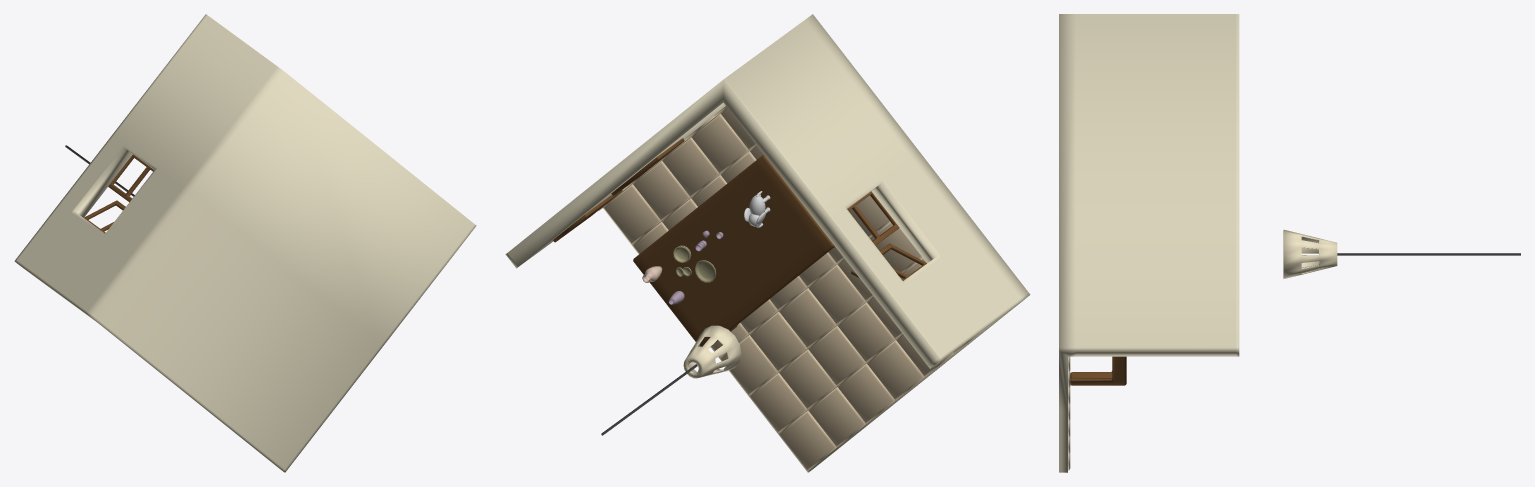
The model's file is elephant.fbx.
3 views of the same model, side by side, from view 1: azimuth 30°, elevation 25°; view 2: azimuth 150°, elevation 25°; view 3: azimuth 270°, elevation 25° (orthographic). The views are drawn at different scales.
Parts seen in each view (by area): view 1: wall, window; view 2: wall, floor, table, lamp_shade, window, plates; view 3: wall, lamp_shade, table, lamp_cable.
Part boxes in pixels (bbox=[...]): wall: bbox=[14, 14, 476, 472]; window: bbox=[84, 154, 153, 233]; wall: bbox=[505, 14, 1030, 472]; floor: bbox=[598, 106, 982, 470]; table: bbox=[633, 154, 860, 346]; lamp_shade: bbox=[683, 325, 741, 378]; window: bbox=[847, 191, 926, 280]; plates: bbox=[673, 245, 716, 282]; wall: bbox=[1059, 14, 1239, 472]; lamp_shade: bbox=[1283, 229, 1337, 278]; table: bbox=[1070, 356, 1126, 385]; lamp_cable: bbox=[1337, 253, 1520, 255].
Bounding box in the file's own units: 5.62 × 5.62 × 5.13.
